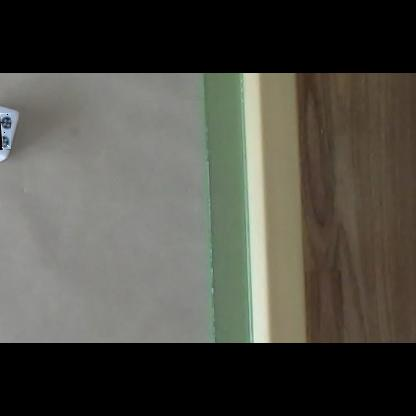4p: (0, 113, 11, 150)
